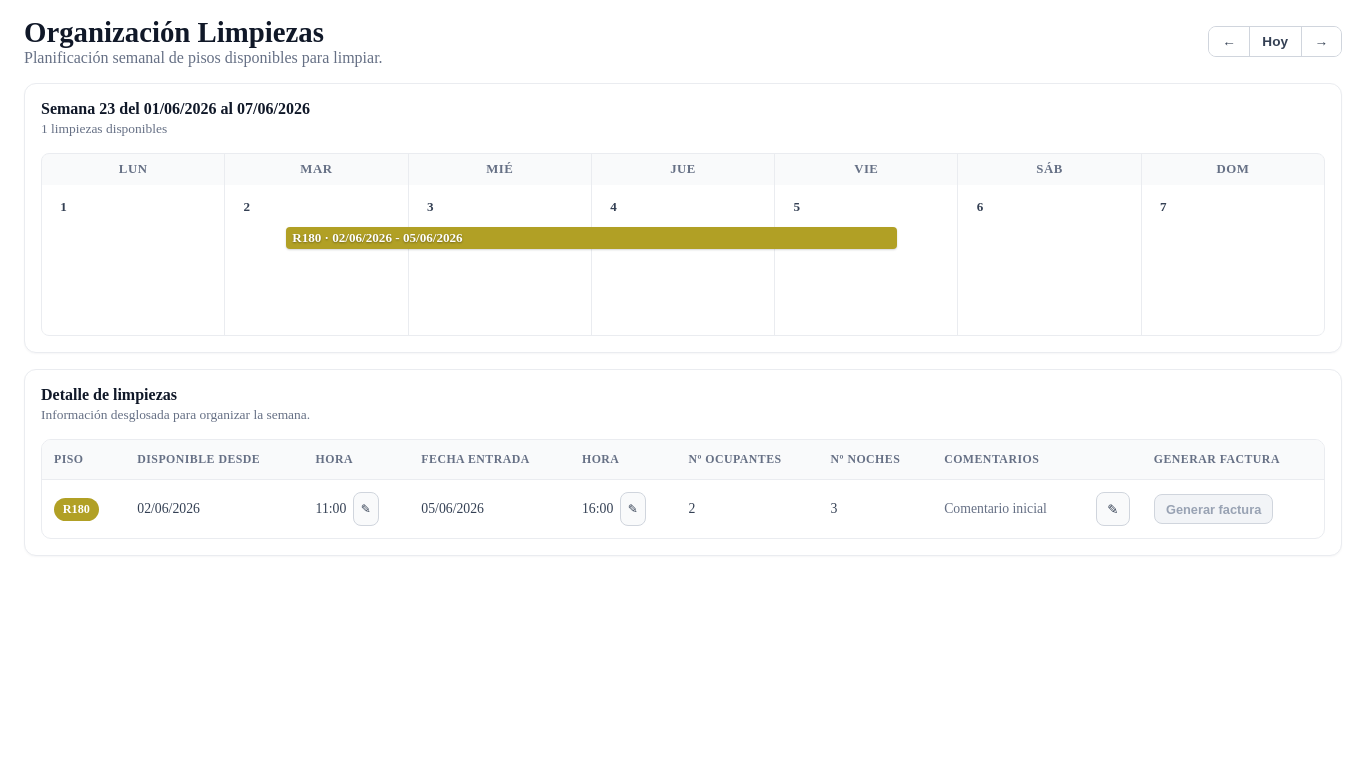
Scenario: CleaningOrganizationComponent › guarda comentarios con PUT y muestra toast de éxito
Click the button with class "edit-btn". click: {"x": 1113, "y": 509}
box: [1096, 492, 1130, 526]
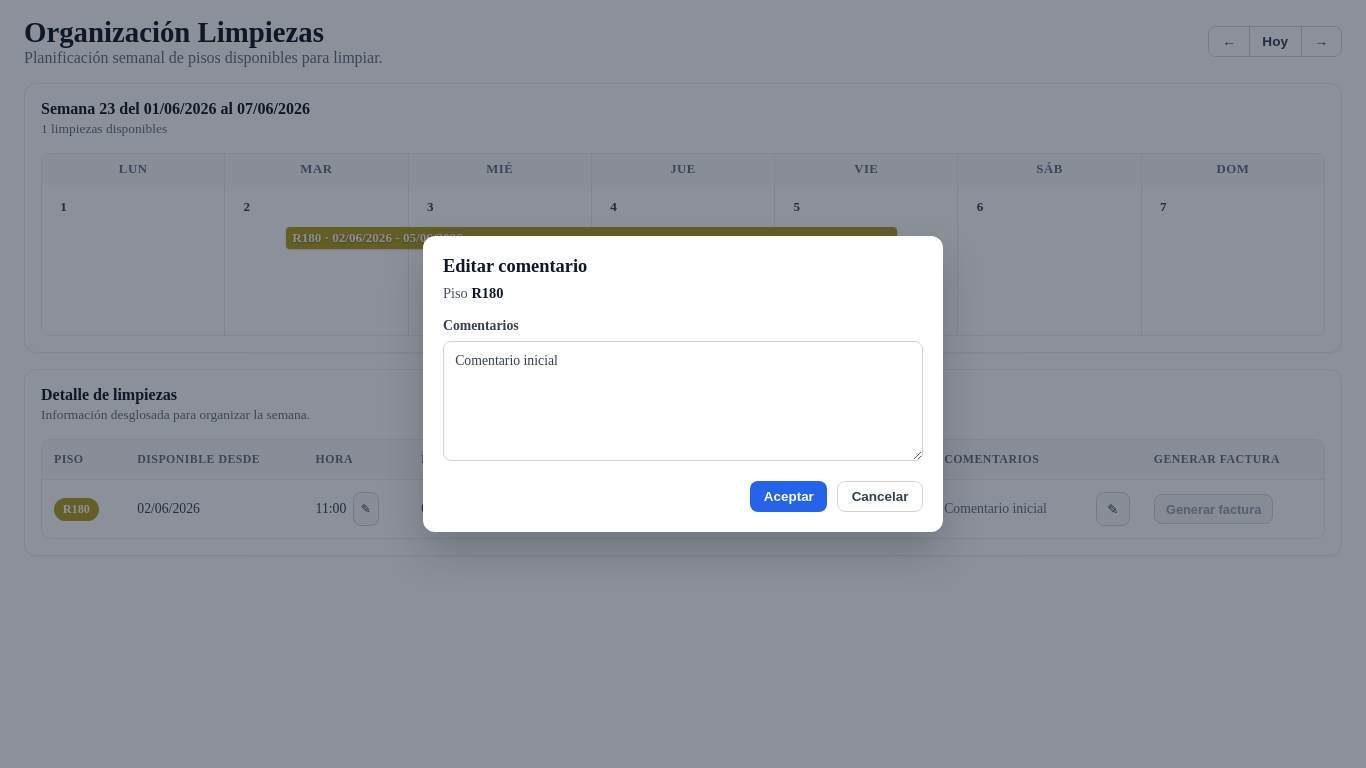
Replace the text in the text box labelled "Comentarios" with "Nuevo comentario". click: {"x": 683, "y": 401}
box: [443, 341, 923, 461]
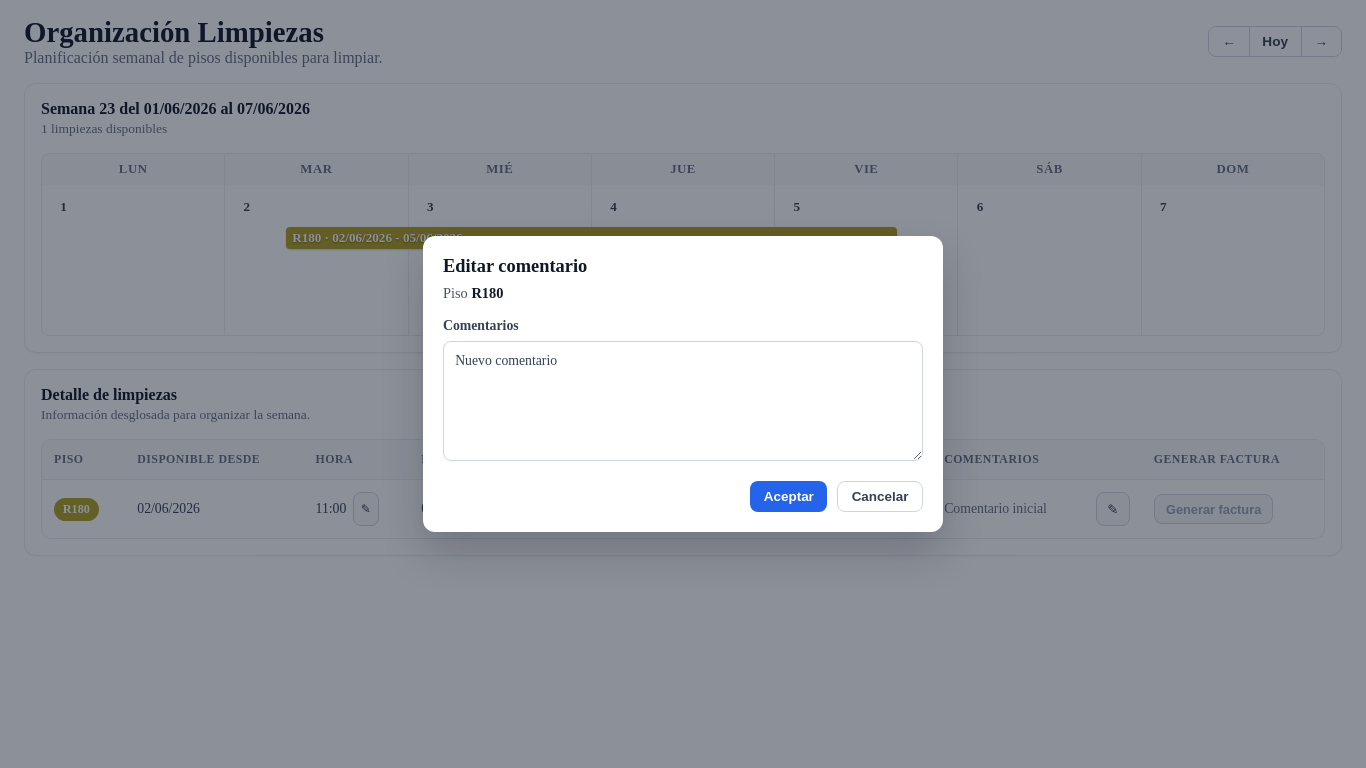
Click the button "Aceptar". click: {"x": 789, "y": 497}
box: [750, 481, 827, 512]
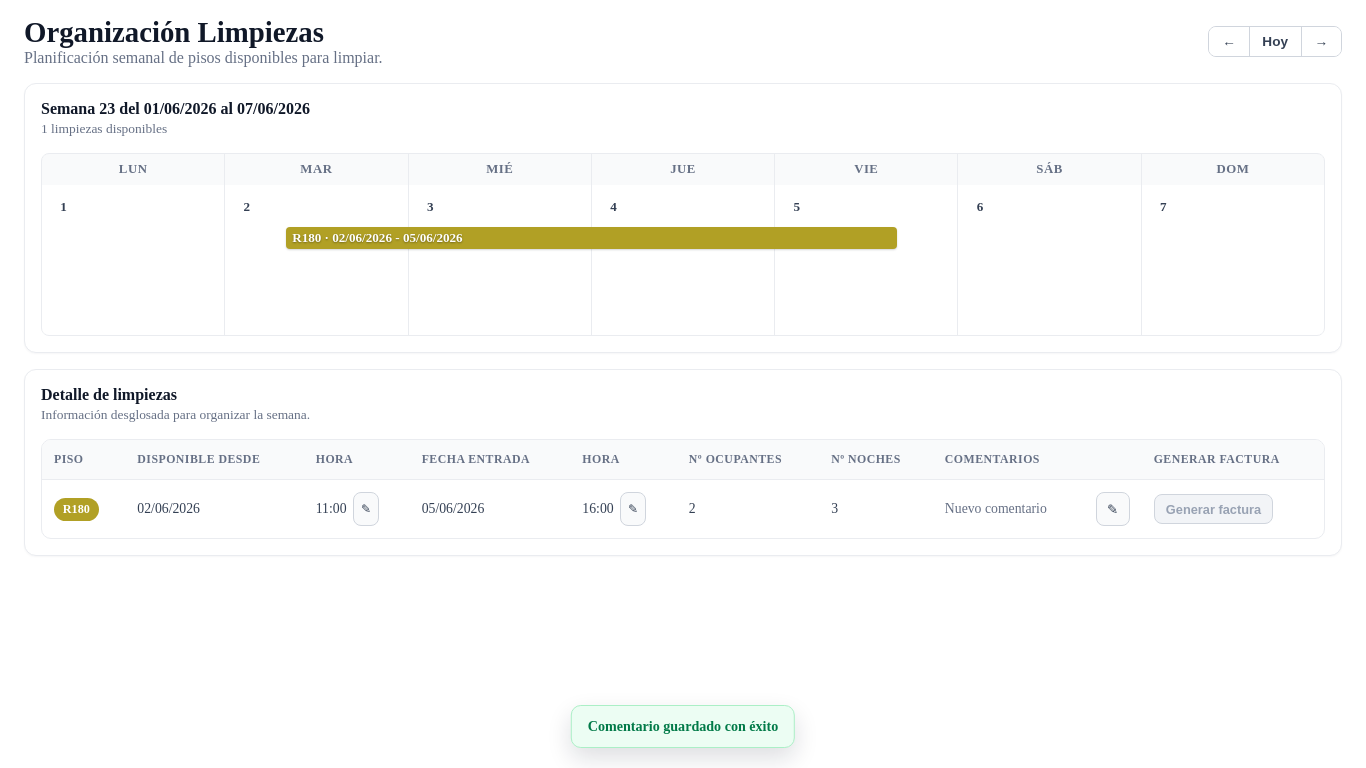
Now the text "Nuevo comentario" is shown, box [945, 501, 1047, 517]
Now the text "Comentario guardado con éxito" is shown, box [571, 705, 795, 748]
Now the dialog with class "comment-dialog" is gone
